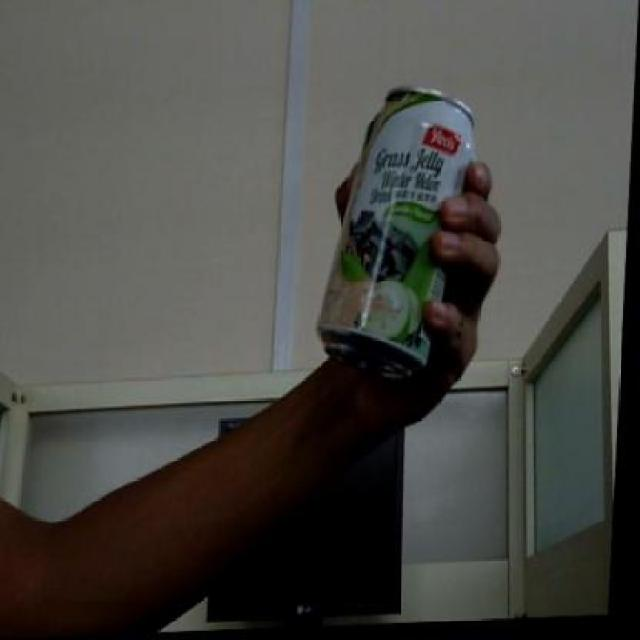Metal: (313, 82, 484, 385)
